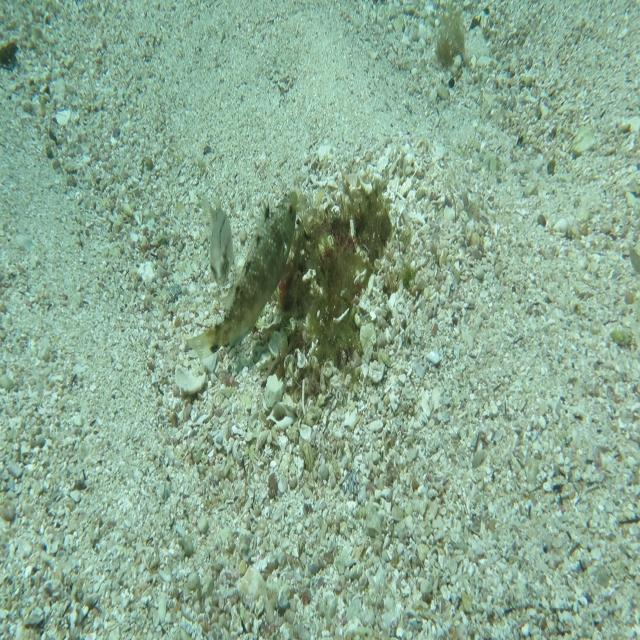FAN: (185, 188, 298, 362)
core_nest: (330, 205, 389, 262)
female: (201, 194, 237, 290)
nest: (267, 165, 412, 406)
